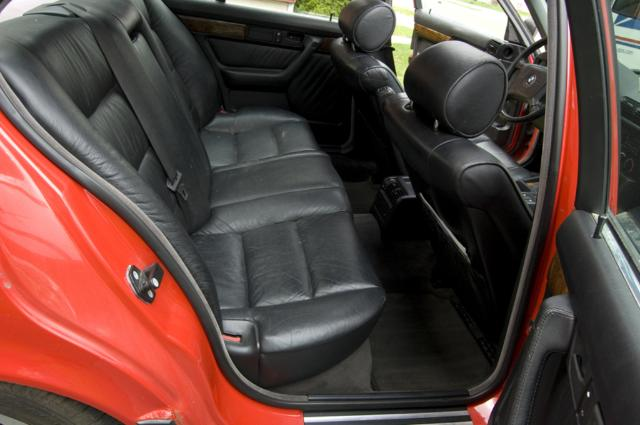Seatbelt: (60, 1, 190, 238)
